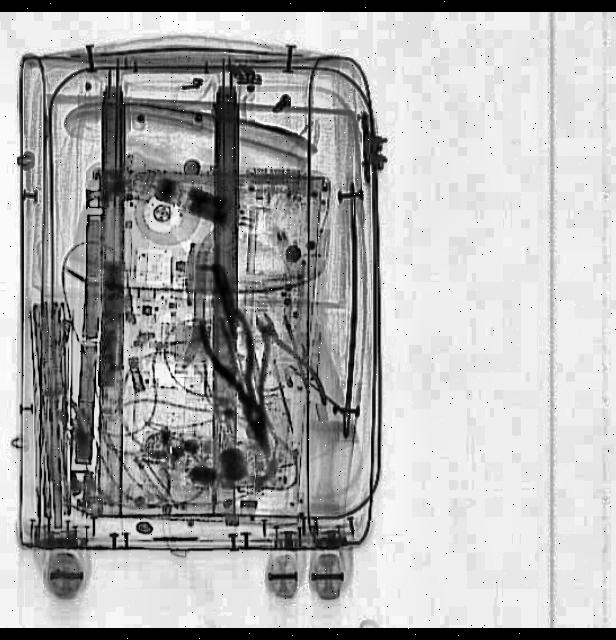Pliers: (193, 302, 293, 461), (232, 300, 332, 430)
